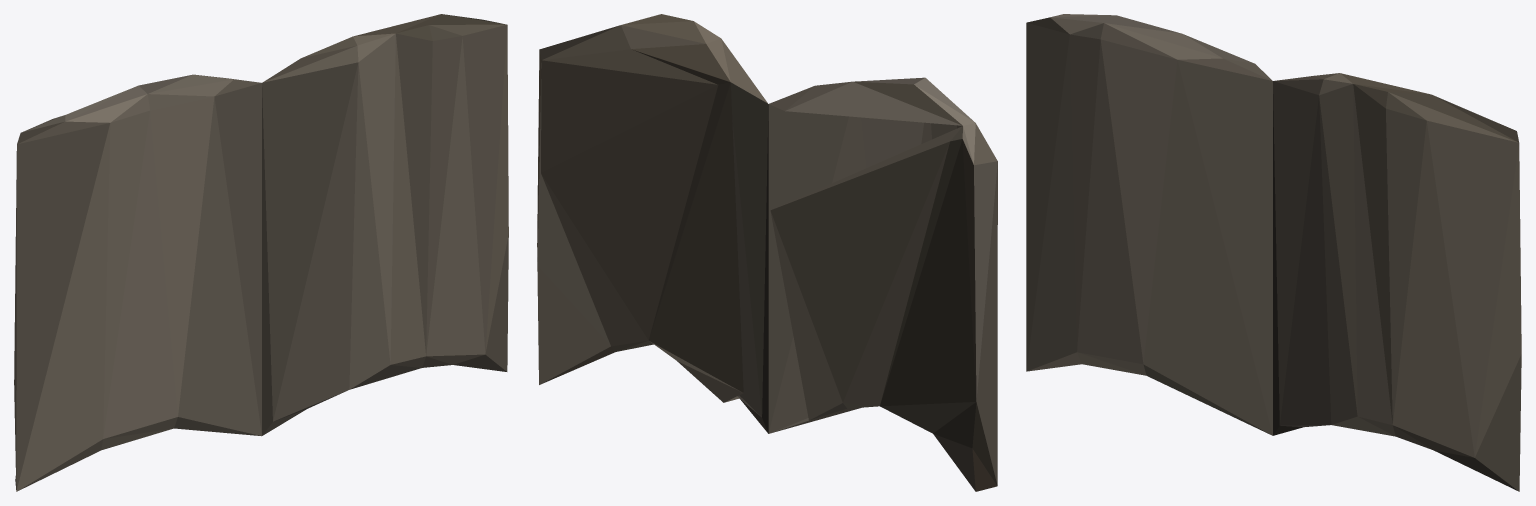
File: Symbol-Magic.fbx
3 renders of one model, left to right at view 1: azimuth 30°, elevation 25°; view 2: azimuth 150°, elevation 25°; view 3: azimuth 330°, elevation 25°, orthographic. The views are drawn at different scales.
Parts seen in each view (by area): view 1: Symbol-Magic; view 2: Symbol-Magic; view 3: Symbol-Magic.
Part boxes in pixels (x1,y1,x2,y2): Symbol-Magic: (14, 14, 508, 491); Symbol-Magic: (537, 14, 997, 491); Symbol-Magic: (1026, 14, 1521, 491).
Size of the model in its own units: 104 by 80.05 by 15.87.
